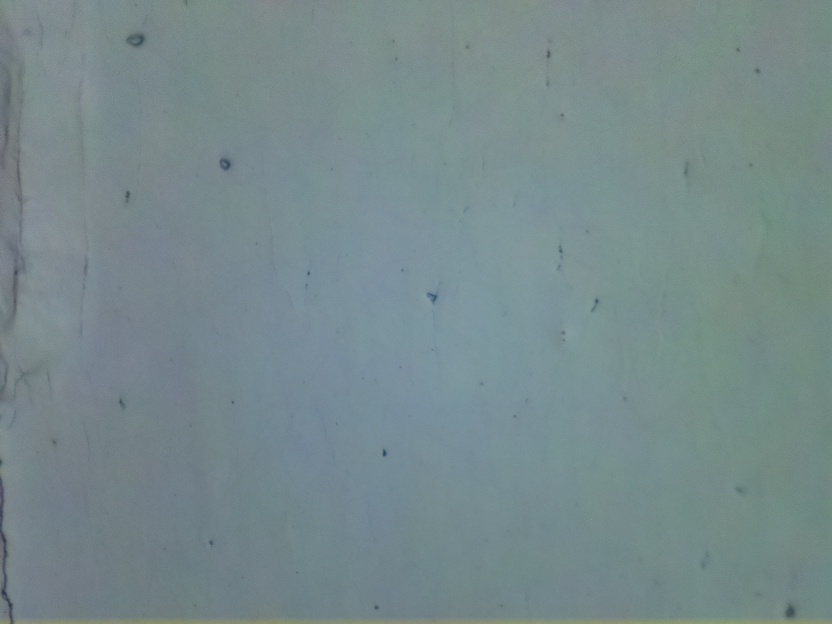crack: (0, 475, 14, 624)
